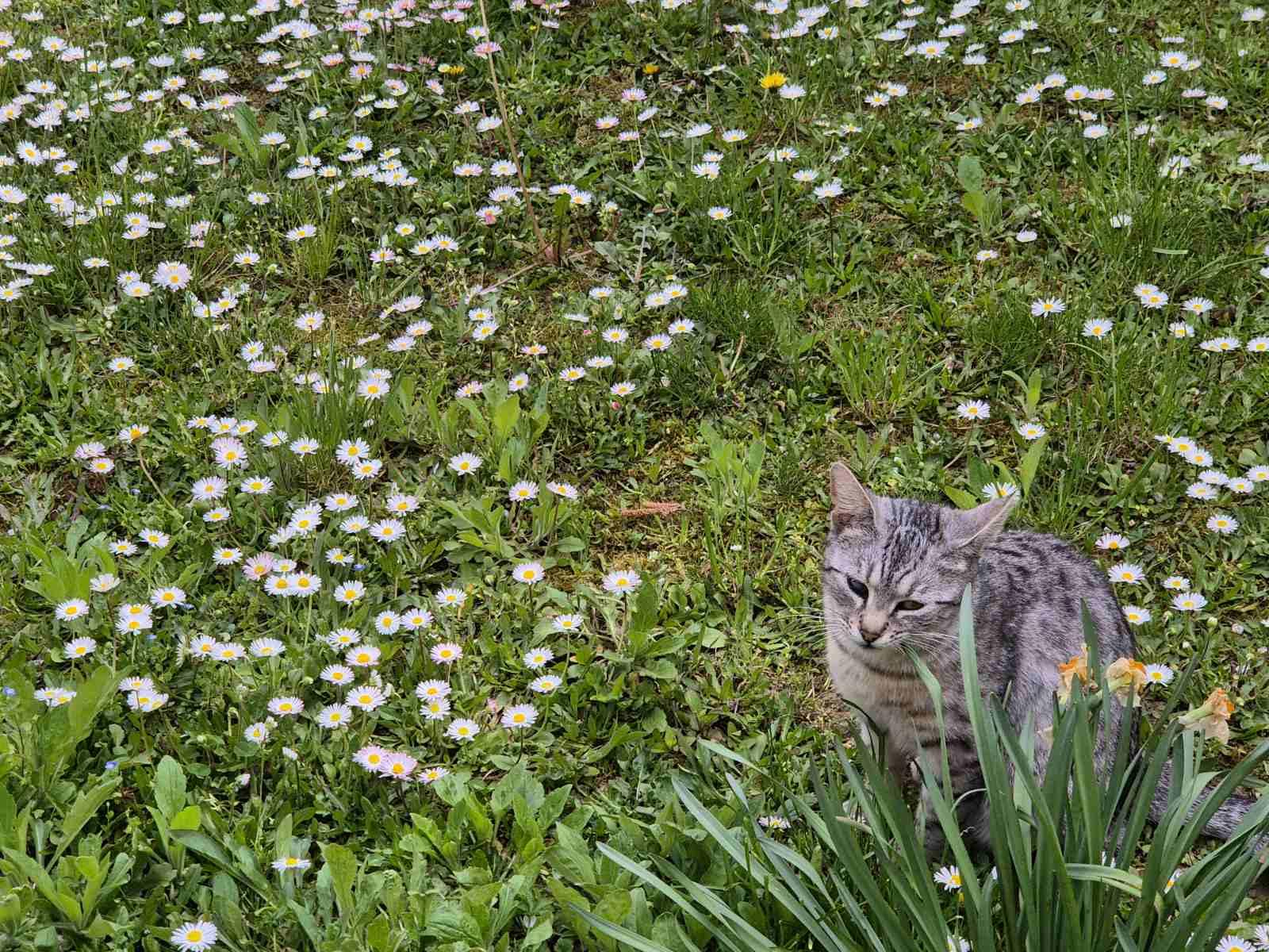macka: (823, 459, 1269, 909)
